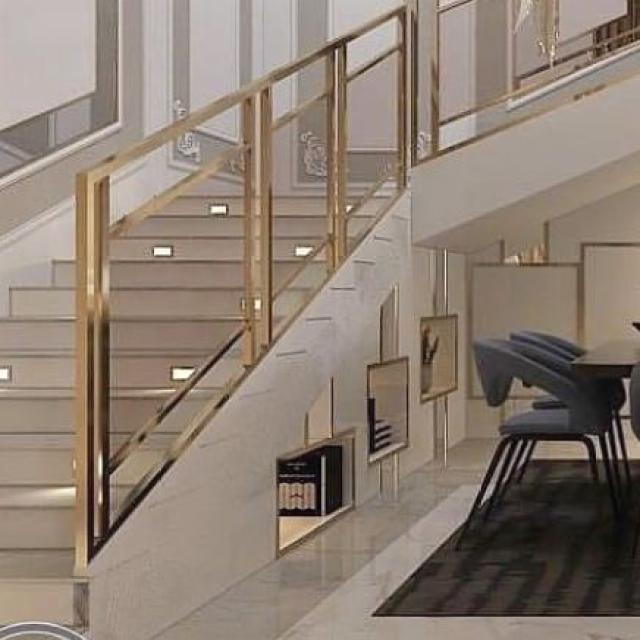stair: (1, 172, 422, 640)
